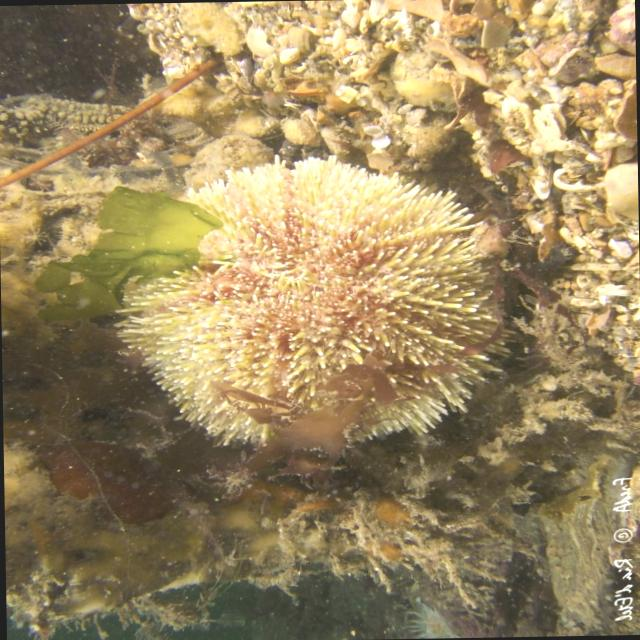Deniz Kestanesi: (105, 150, 515, 450)
